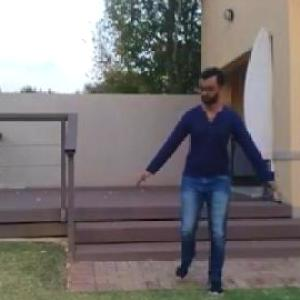land: (136, 55, 288, 296)
